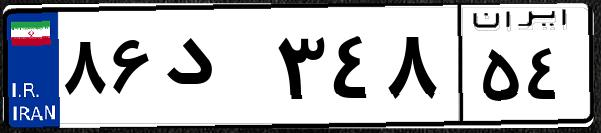3: (270, 28, 330, 110)
4: (330, 28, 385, 110), (525, 38, 570, 115)
5: (475, 38, 525, 113)
6: (110, 28, 158, 98)
8: (385, 28, 445, 110), (57, 26, 110, 100)
د: (158, 20, 270, 120)
